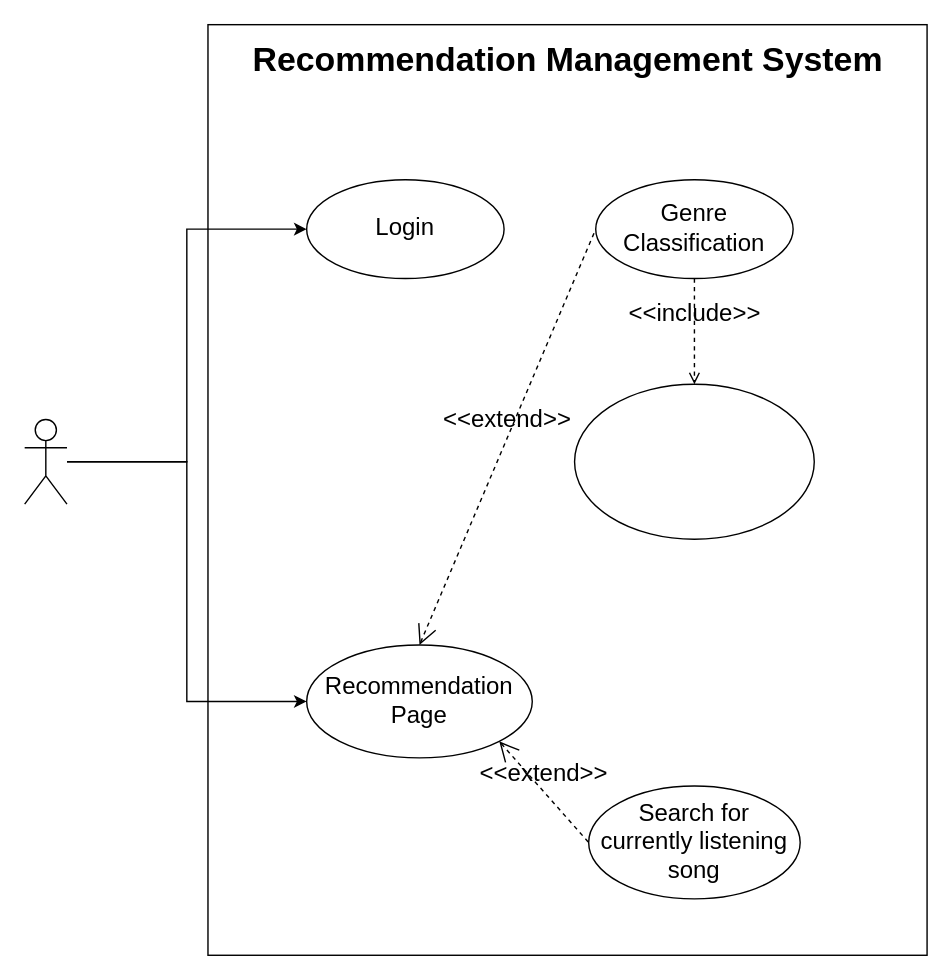
Some shapes in this 952 by 980 pixel diagram are drawn without their labels. Each missing label, with the centre of its shape:
"Return with song recommendation" goes at point 693,461.
"User" goes at point 45,461.
